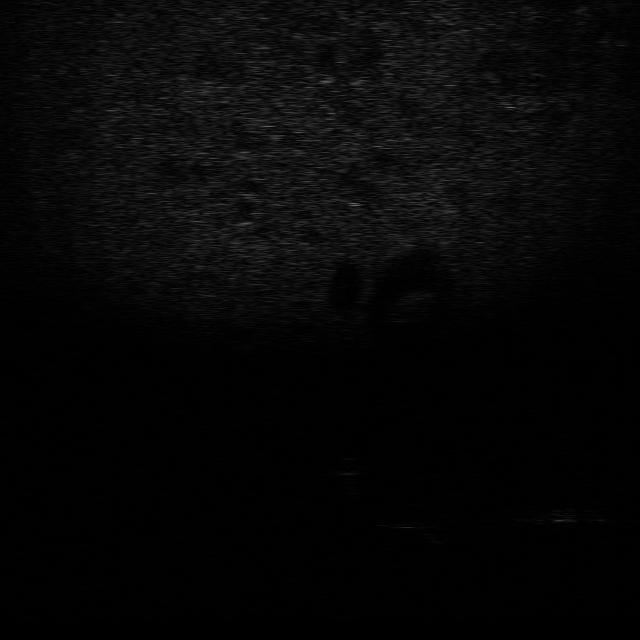ball: (322, 453, 368, 479)
metal bucket: (516, 503, 594, 528)
tyre: (374, 507, 445, 537)
